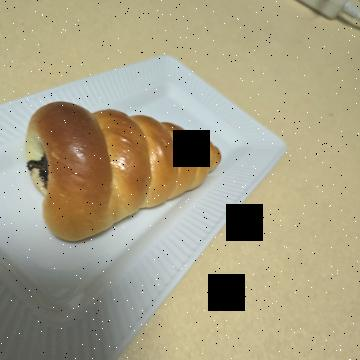cream horn: (82, 126, 255, 348)
